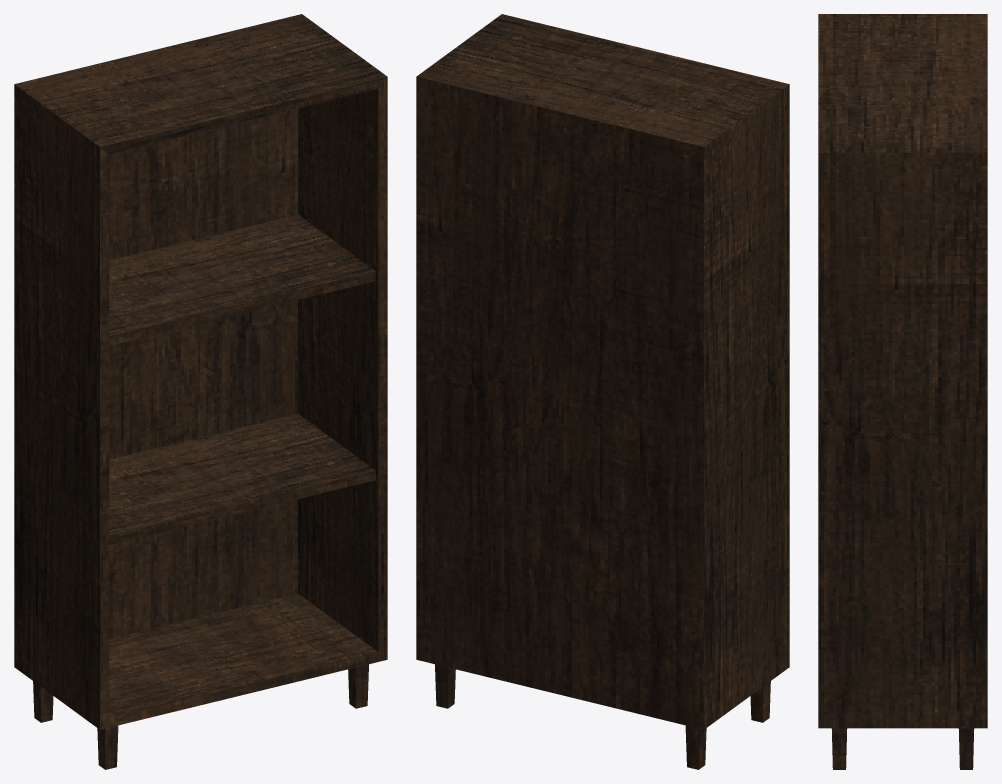
The model's file is shelf_mp_2_1.glb.
The picture shows the model from 3 angles, left to right: view 1: azimuth 30°, elevation 25°; view 2: azimuth 150°, elevation 25°; view 3: azimuth 270°, elevation 25°; orthographic projection.
Visible parts, largest first — view 1: shelf_mp_2_1; view 2: shelf_mp_2_1; view 3: shelf_mp_2_1.
Part boxes in pixels (x1,y1,x2,y2): shelf_mp_2_1: [14, 14, 387, 769]; shelf_mp_2_1: [416, 14, 789, 769]; shelf_mp_2_1: [818, 14, 987, 769].
Bounding box in the file's own units: 0.62 × 1.3 × 0.32.
Materials: 1 (1 with a texture image).
